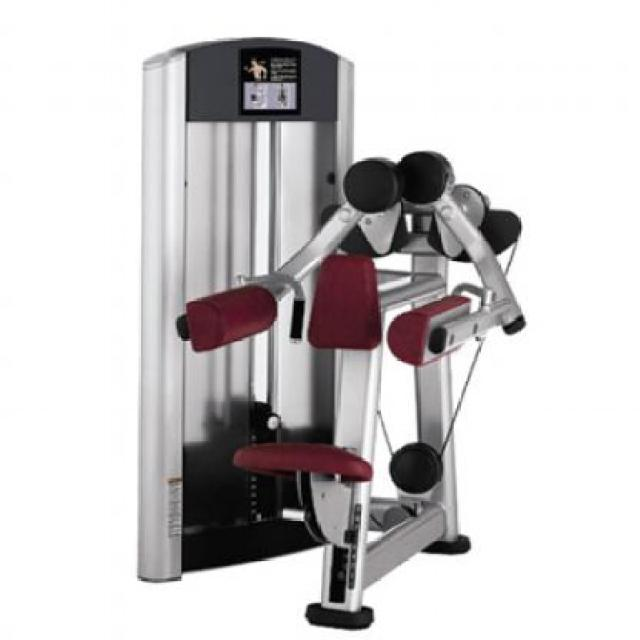lateral raises machine: (138, 36, 530, 624)
